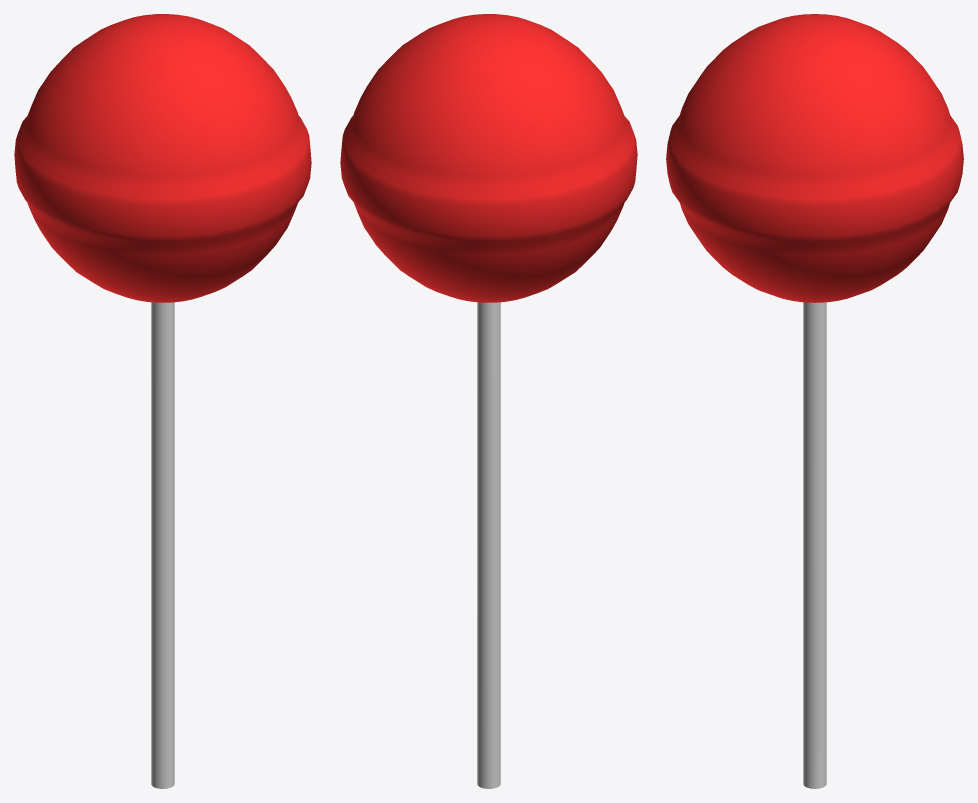
The model's file is LolipopRed.fbx.
3 views of the same model, side by side, from view 1: azimuth 30°, elevation 25°; view 2: azimuth 150°, elevation 25°; view 3: azimuth 270°, elevation 25° (orthographic).
Parts seen in each view (by area): view 1: Head, Stick; view 2: Head, Stick; view 3: Head, Stick.
Boxes of the visible parts, <box> form: Head: <box>14,14,311,302</box>; Stick: <box>151,302,174,788</box>; Head: <box>340,14,637,302</box>; Stick: <box>477,302,500,788</box>; Head: <box>666,14,963,302</box>; Stick: <box>803,302,826,788</box>.
Bounding box in the file's own units: 3.01 × 8.45 × 3.01.
